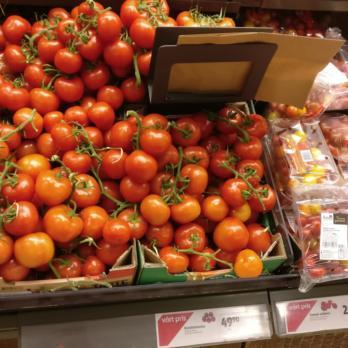Tomato: (5, 106, 257, 250), (2, 6, 145, 105)
